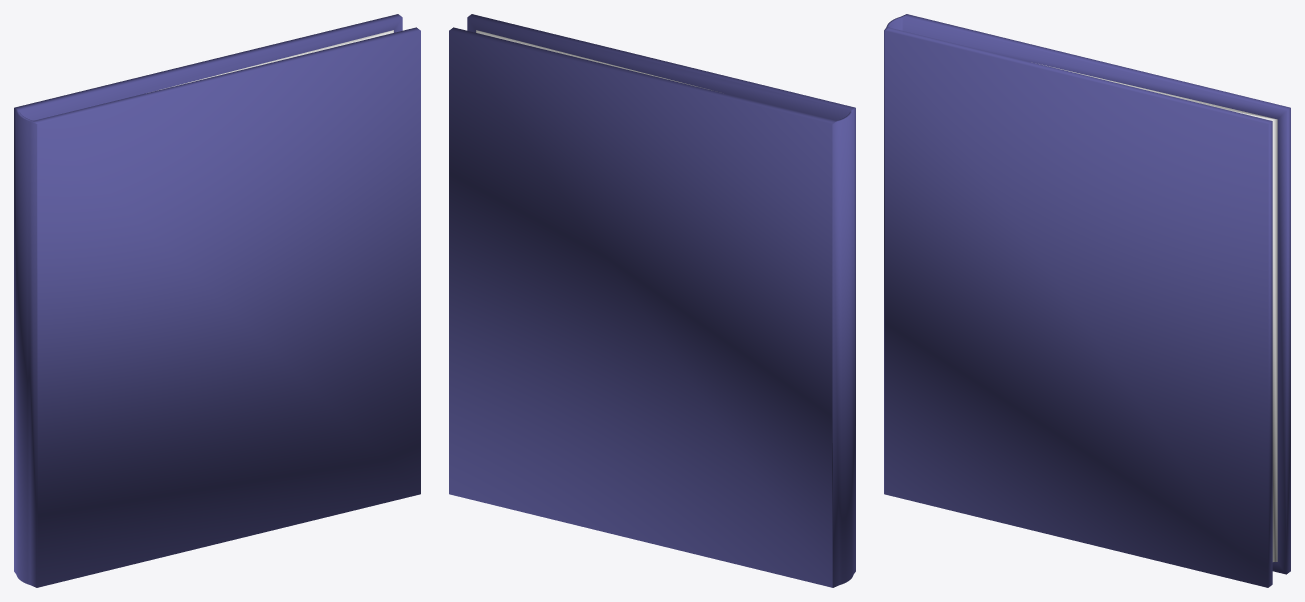
The model's file is LivingRoom_Book.fbx.
The picture shows the model from 3 angles, left to right: view 1: azimuth 30°, elevation 25°; view 2: azimuth 150°, elevation 25°; view 3: azimuth 330°, elevation 25°; orthographic projection.
Parts seen in each view (by area): view 1: book; view 2: book; view 3: book.
Part boxes in pixels (bbox=[...]): book: bbox=[14, 14, 420, 587]; book: bbox=[449, 14, 855, 587]; book: bbox=[884, 14, 1290, 587].
Bounding box in the file's own units: 2.44 × 2.79 × 0.2485.
